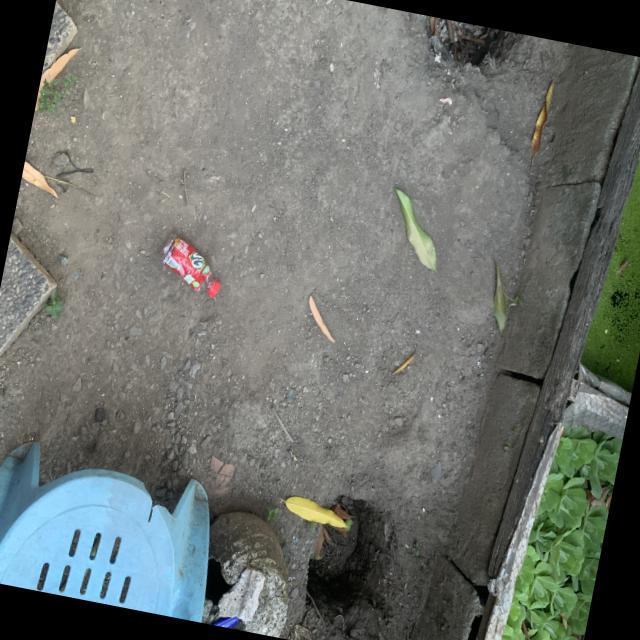Bottle: (162, 235, 220, 297)
